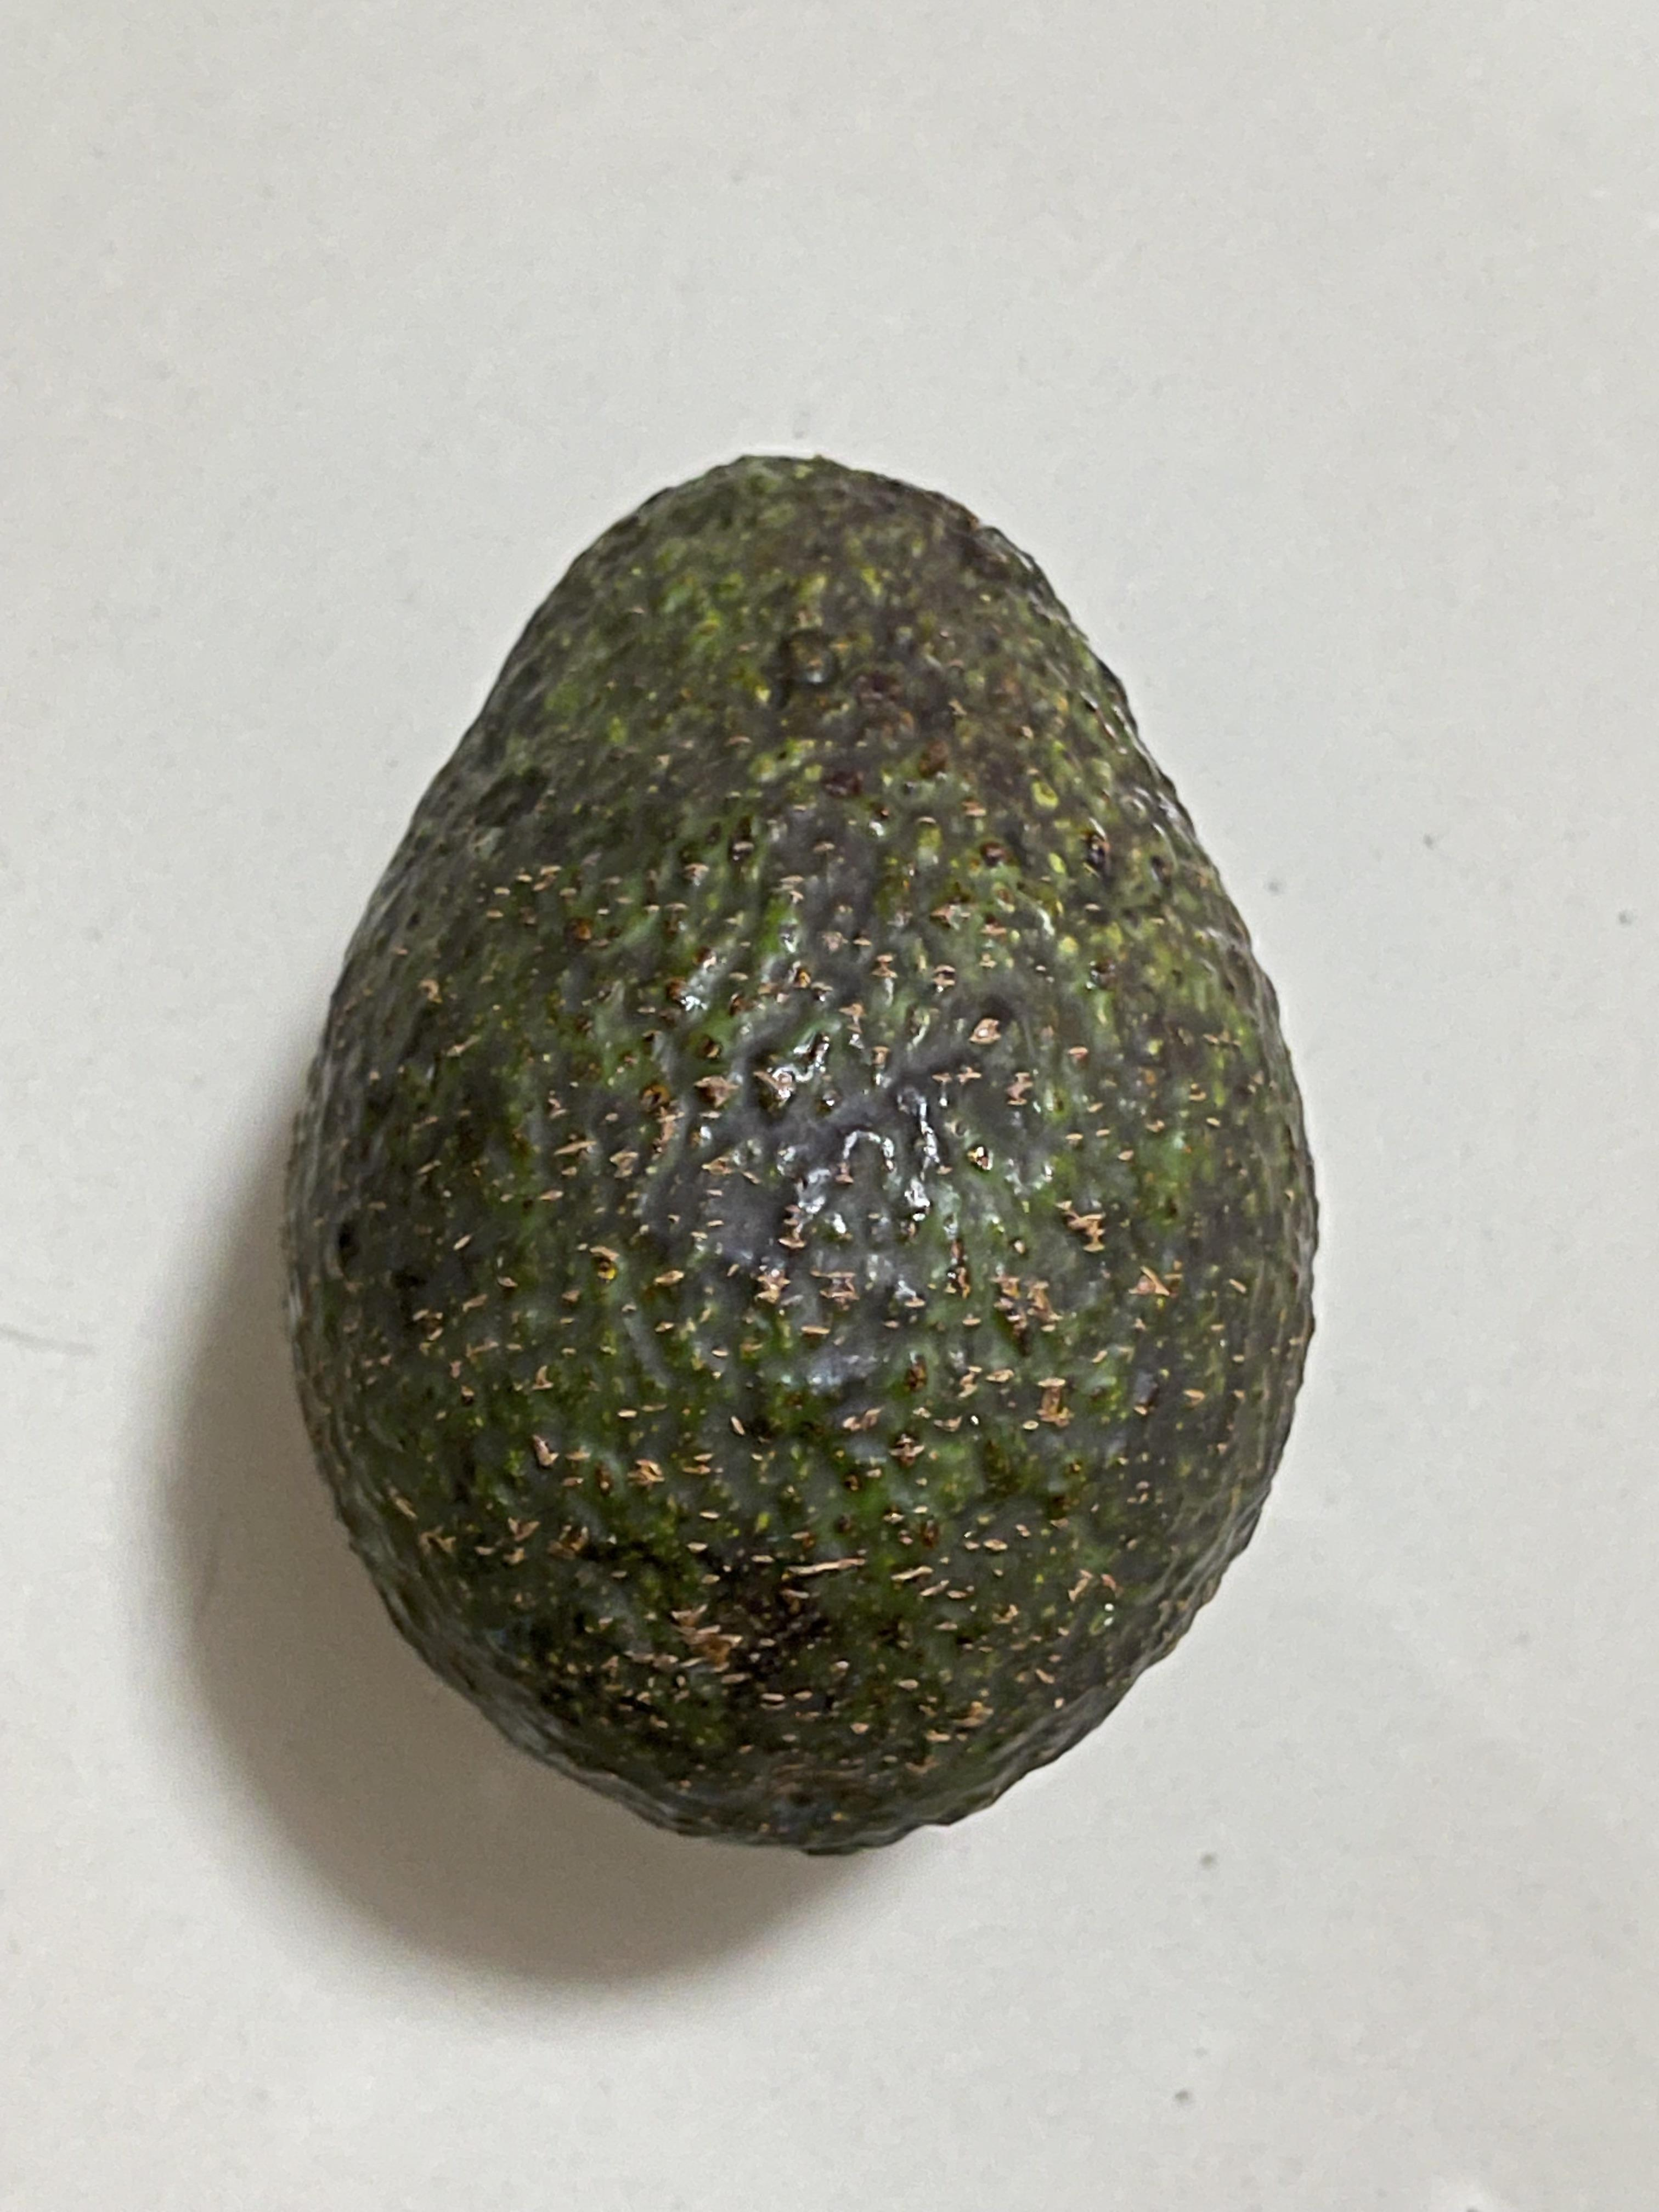Level1: (258, 411, 1347, 1883)
